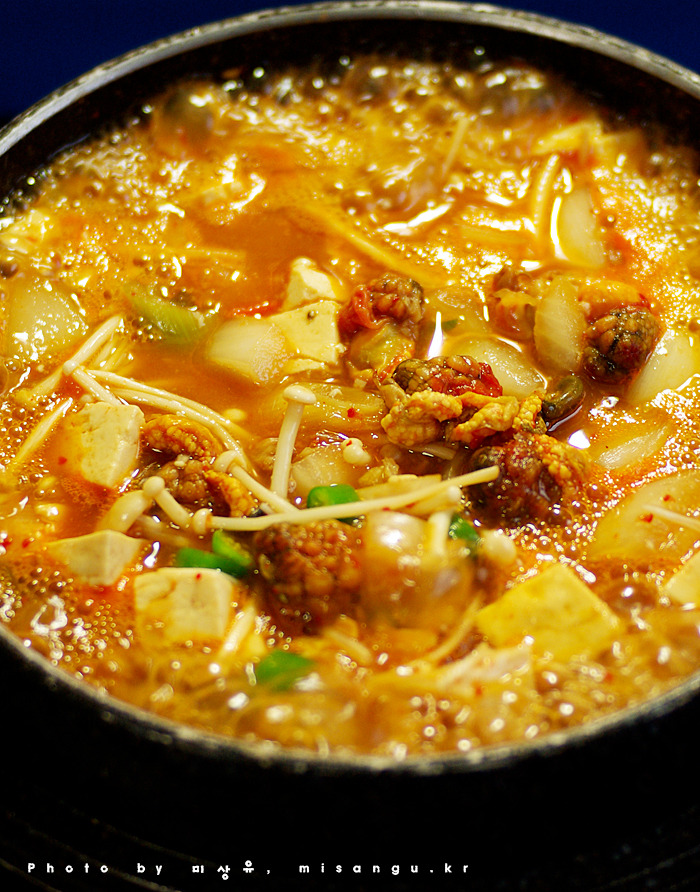doenjangjjigae: (8, 51, 700, 752)
